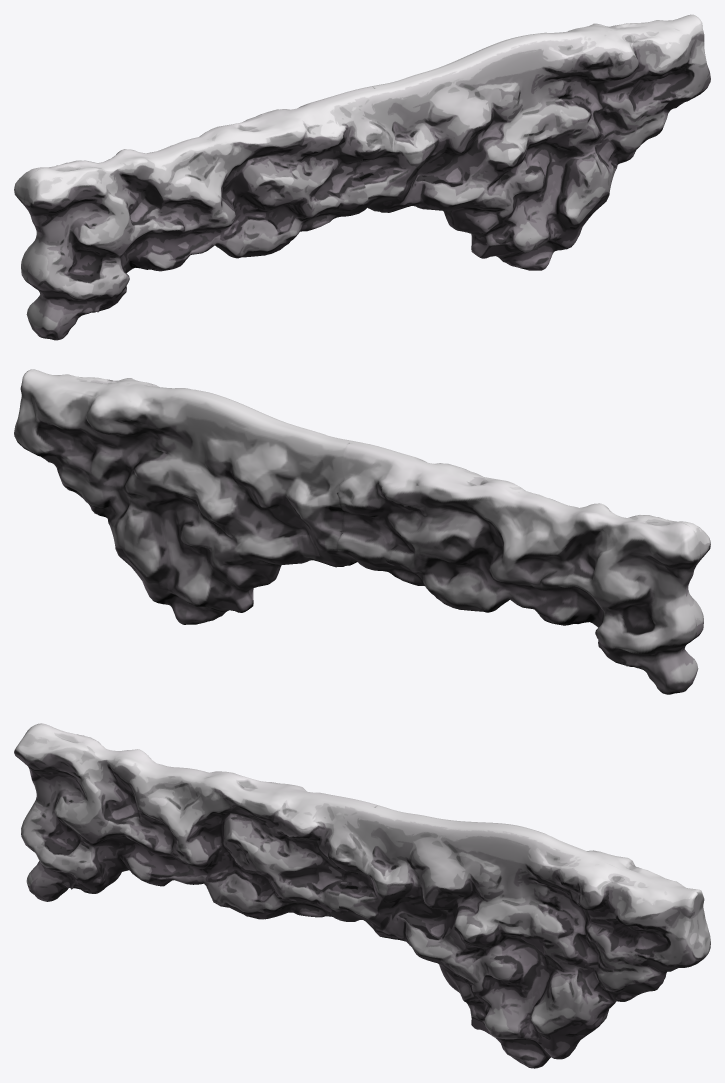
File: RockUndergroundCeiling.FBX
3 renders of one model, top to bottom at view 1: azimuth 30°, elevation 25°; view 2: azimuth 150°, elevation 25°; view 3: azimuth 330°, elevation 25°, orthographic.
Parts seen in each view (by area): view 1: Group006; view 2: Group006; view 3: Group006.
Boxes of the visible parts, x1,y1,x2,y2 form: Group006: (14, 14, 710, 340); Group006: (14, 369, 710, 694); Group006: (14, 723, 710, 1068).
Size of the model in its own units: 2369 by 773 by 271.
